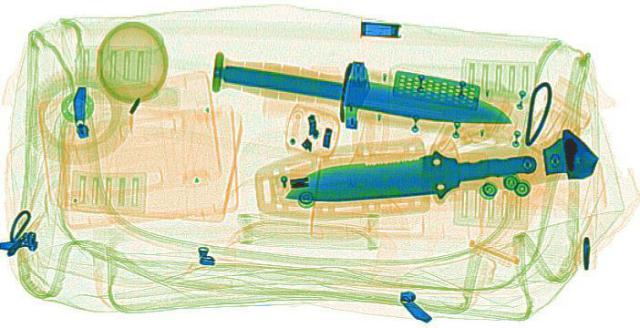Knife: (167, 34, 538, 151), (260, 134, 550, 214)
